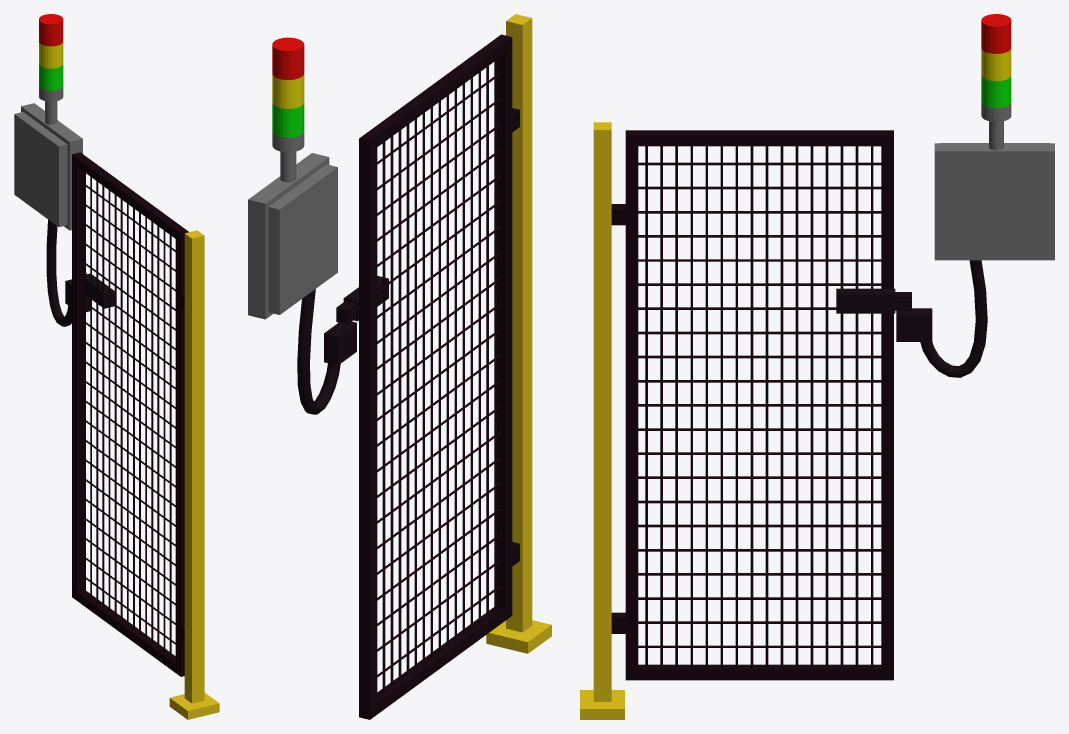
File: Door.fbx
3 renders of one model, left to right at view 1: azimuth 30°, elevation 25°; view 2: azimuth 150°, elevation 25°; view 3: azimuth 270°, elevation 25°, orthographic. The views are drawn at different scales.
Parts seen in each view (by area): view 1: Door, Base, Device, LightRed, LightSign, LightGreen, LightYellow; view 2: Door, Device, Base, LightRed, LightSign, LightGreen, LightYellow; view 3: Door, Device, Base, LightRed, LightGreen, LightYellow, LightSign.
Part boxes in pixels (left/top/right/bottom): Door: left=72, top=152, right=188, bottom=676; Base: left=169, top=230, right=219, bottom=719; Device: left=14, top=103, right=114, bottom=326; LightRed: left=39, top=14, right=63, bottom=46; LightSign: left=39, top=86, right=63, bottom=124; LightGreen: left=39, top=64, right=63, bottom=90; LightYellow: left=39, top=42, right=63, bottom=68; Door: left=359, top=34, right=519, bottom=719; Device: left=248, top=153, right=388, bottom=414; Base: left=486, top=14, right=551, bottom=653; LightRed: left=272, top=37, right=304, bottom=79; LightSign: left=272, top=131, right=304, bottom=182; LightGreen: left=272, top=102, right=304, bottom=137; LightYellow: left=272, top=74, right=304, bottom=108; Door: left=611, top=130, right=893, bottom=680; Device: left=836, top=143, right=1054, bottom=377; Base: left=580, top=122, right=624, bottom=719; LightRed: left=981, top=14, right=1011, bottom=53; LightGreen: left=981, top=75, right=1011, bottom=108; LightYellow: left=981, top=48, right=1011, bottom=81; LightSign: left=981, top=102, right=1011, bottom=150.
Size of the model in its own units: 203 by 2570 by 1580.
